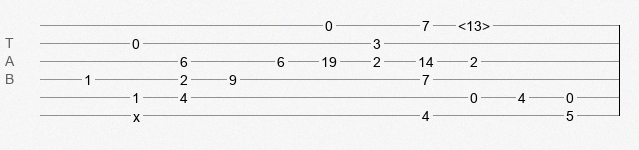0: (132, 36, 140, 46), (325, 18, 333, 28), (470, 90, 478, 100), (566, 90, 574, 100)
1: (84, 72, 92, 82), (132, 90, 140, 100)
14: (418, 54, 434, 64)
19: (321, 54, 337, 64)
2: (180, 72, 188, 82), (373, 54, 381, 64), (470, 54, 478, 64)
3: (373, 36, 381, 46)
4: (180, 90, 188, 100), (422, 108, 430, 118), (518, 90, 526, 100)
5: (566, 108, 574, 118)
6: (180, 54, 188, 64), (277, 54, 285, 64)
7: (422, 72, 430, 82), (422, 18, 430, 28)
9: (229, 72, 237, 82)
harmonic: (458, 18, 490, 28)
x: (133, 109, 140, 117)
